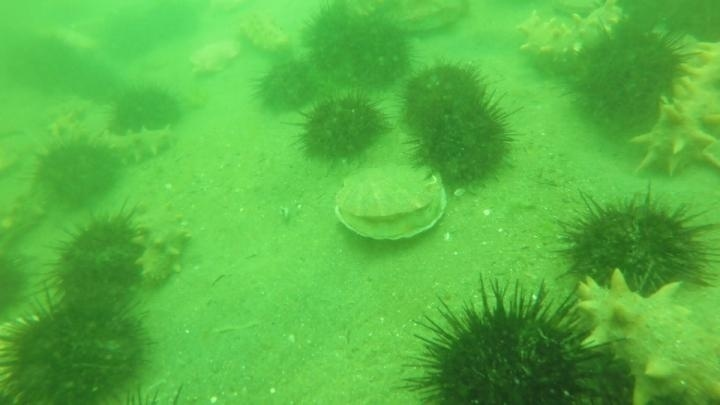echinus: (399, 275, 620, 403), (551, 183, 718, 305), (1, 287, 158, 405), (565, 20, 697, 137), (43, 203, 150, 312), (406, 95, 522, 192), (299, 4, 418, 93), (293, 89, 390, 167), (30, 134, 124, 211), (398, 57, 491, 134), (99, 3, 201, 63), (5, 33, 84, 98), (251, 54, 326, 117), (106, 82, 185, 140), (1, 251, 30, 317)
holothurian: (571, 266, 718, 405), (630, 40, 720, 181), (515, 1, 628, 73), (128, 195, 191, 289), (96, 122, 181, 168), (41, 98, 114, 147), (1, 178, 49, 251), (233, 7, 298, 58)
scallop: (331, 162, 450, 248), (379, 1, 474, 40), (97, 375, 186, 405), (187, 36, 245, 80)
